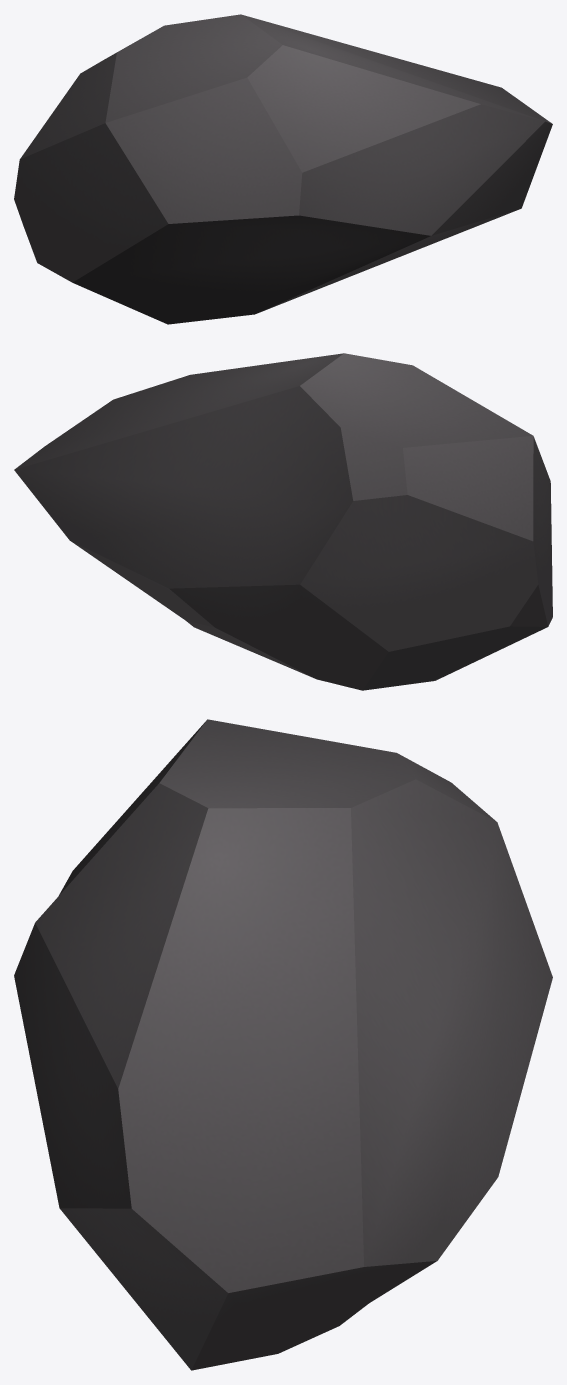
Rendered from LongSize_RockDark.fbx.
3 views of the same model, one above another, from view 1: azimuth 30°, elevation 25°; view 2: azimuth 150°, elevation 25°; view 3: azimuth 270°, elevation 25° (orthographic). The views are drawn at different scales.
Visible parts, largest first — view 1: LongSize_RockDark; view 2: LongSize_RockDark; view 3: LongSize_RockDark.
Part boxes in pixels (x1,y1,x2,y2): LongSize_RockDark: (14, 14, 552, 324); LongSize_RockDark: (14, 353, 552, 690); LongSize_RockDark: (14, 719, 552, 1370).
Size of the model in its own units: 3.57 by 1.73 by 1.96.
1 material, 1 textured.
